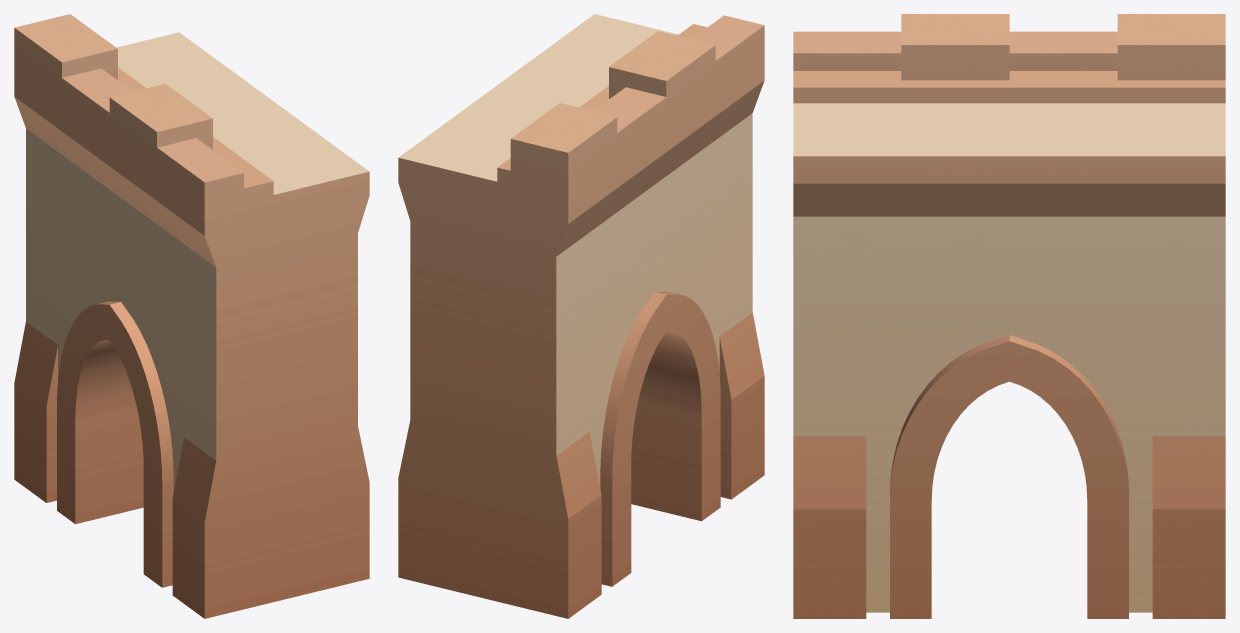
File: wall-doorway.glb
3 renders of one model, left to right at view 1: azimuth 30°, elevation 25°; view 2: azimuth 150°, elevation 25°; view 3: azimuth 270°, elevation 25°, orthographic. The views are drawn at different scales.
Visible parts, largest first — view 1: wall-doorway; view 2: wall-doorway; view 3: wall-doorway.
Boxes of the visible parts, left/top/right/bottom form: wall-doorway: left=14, top=14, right=369, bottom=618; wall-doorway: left=398, top=14, right=764, bottom=618; wall-doorway: left=793, top=14, right=1225, bottom=618.
Size of the model in its own units: 0.5 by 1.31 by 1.
1 material, 1 textured.
